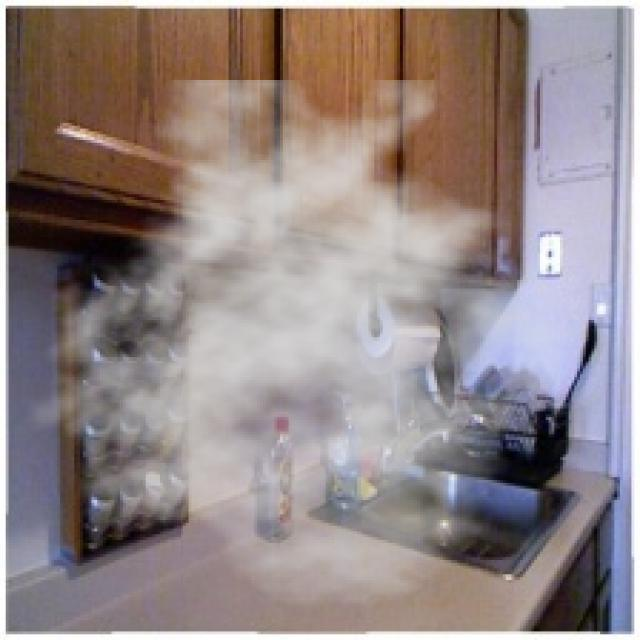Smoke: (26, 80, 594, 609)
